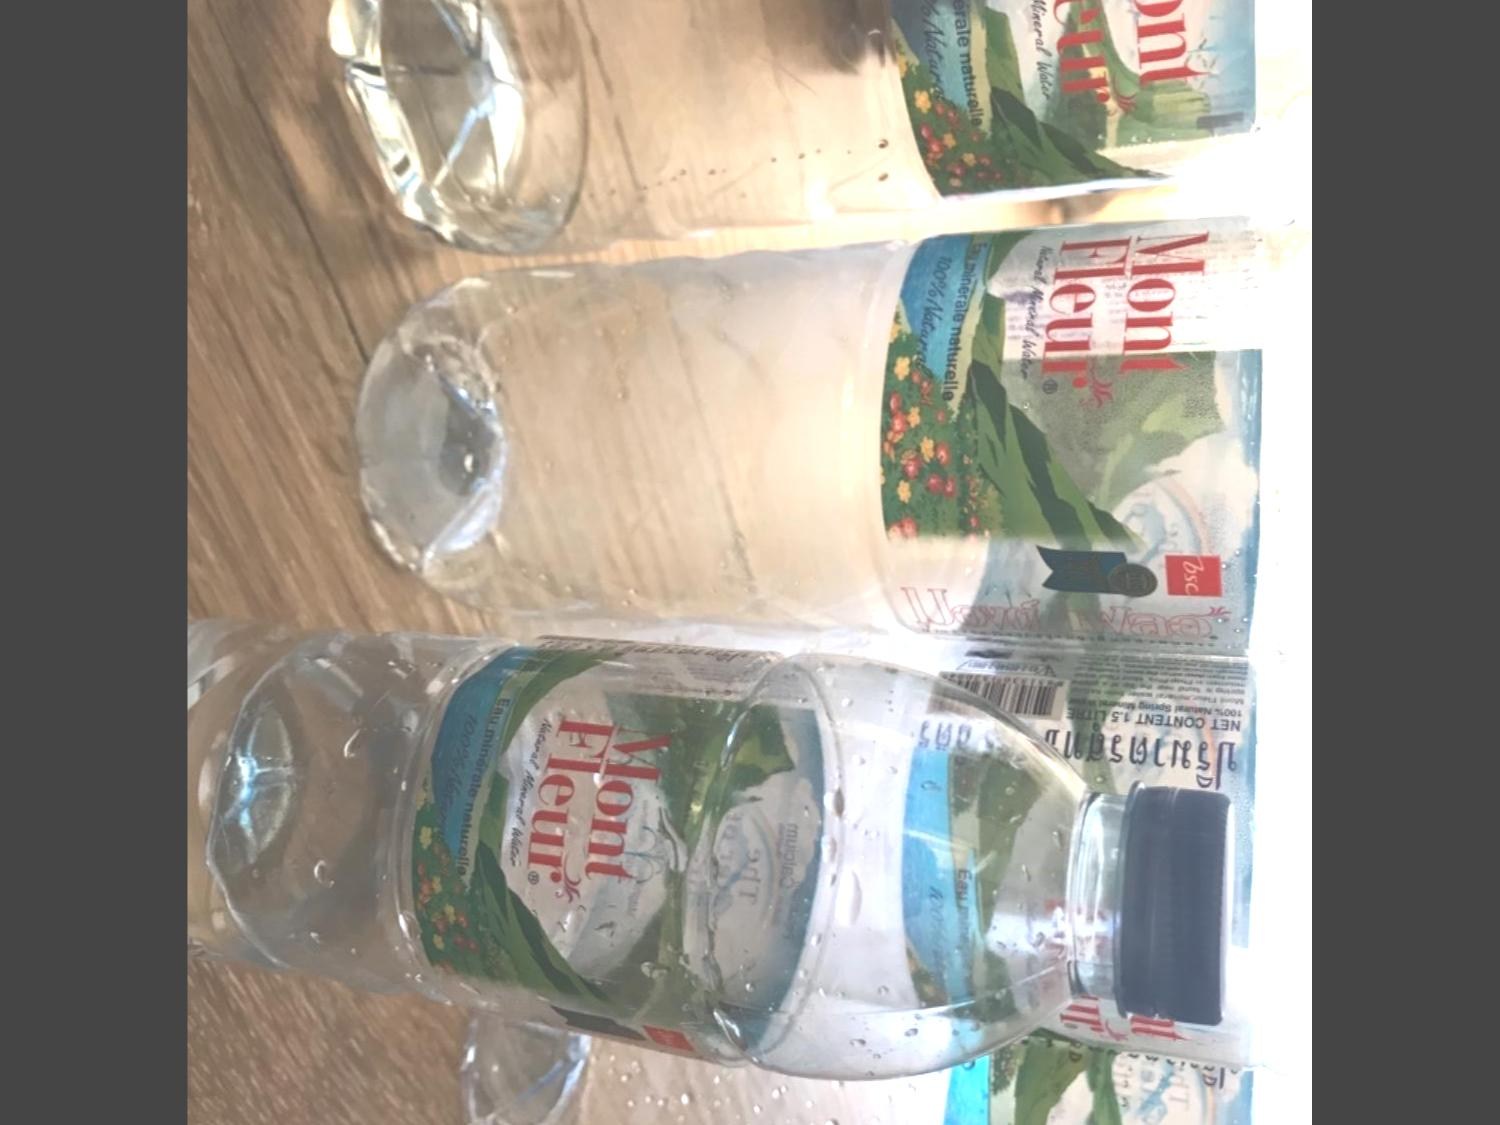bottle: (188, 625, 1252, 1085), (346, 597, 1312, 1086), (340, 214, 1312, 655), (296, 0, 1312, 247), (425, 1028, 1312, 1125)
